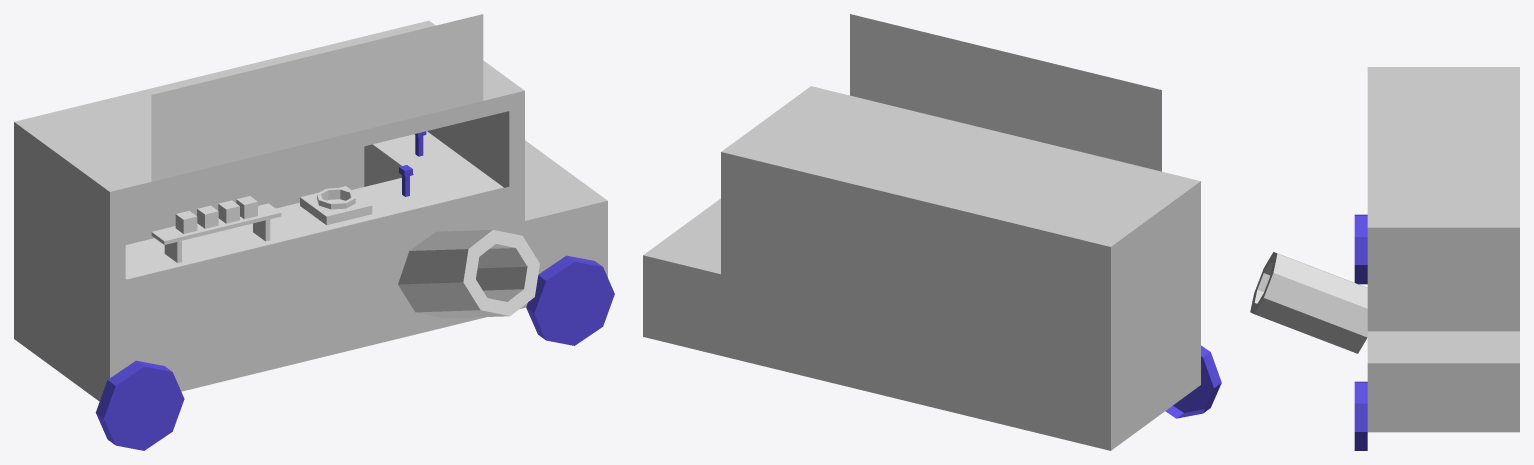
Rendered from FoodTruck.fbx.
The picture shows the model from 3 angles, left to right: view 1: azimuth 30°, elevation 25°; view 2: azimuth 150°, elevation 25°; view 3: azimuth 270°, elevation 25°; orthographic projection. The views are drawn at different scales.
Parts seen in each view (by area): view 1: Truck, Signage, Table, Canon, Shelf, Canon Reload; view 2: Truck, Signage; view 3: Truck, Canon.
Part boxes in pixels (box(x1,y1,x2,y2)): Truck: box(14, 20, 614, 450); Signage: box(151, 14, 483, 181); Table: box(125, 131, 503, 279); Canon: box(398, 229, 539, 318); Shelf: box(151, 203, 281, 262); Canon Reload: box(300, 186, 372, 225); Truck: box(643, 86, 1221, 450); Signage: box(850, 14, 1161, 171); Truck: box(1354, 67, 1519, 450); Canon: box(1250, 252, 1367, 353).
Bounding box in the file's own units: 617 × 399 × 354.
